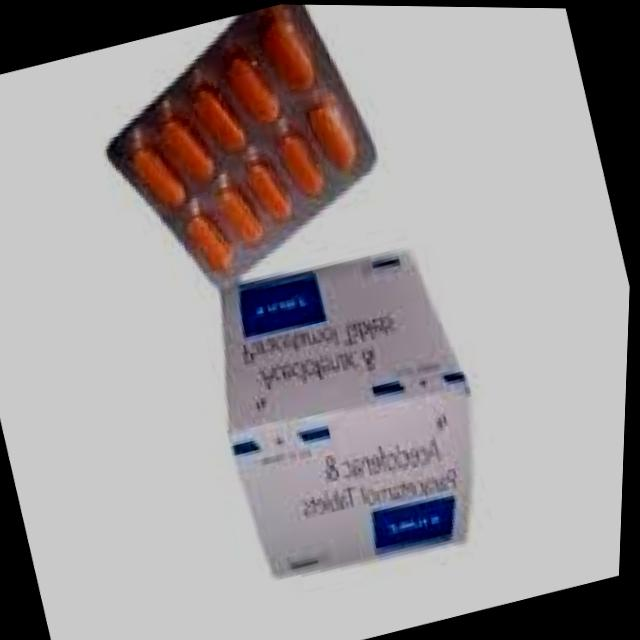medicine: (185, 238, 509, 587), (111, 1, 418, 294)
